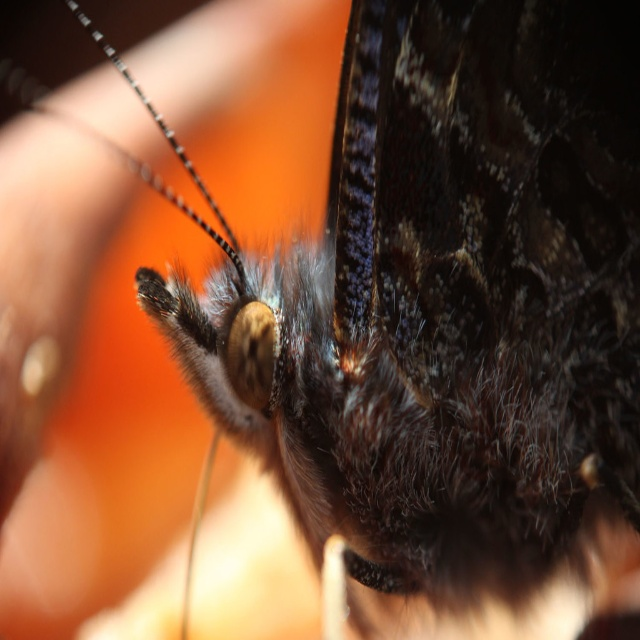Butterfly: (73, 0, 586, 632)
